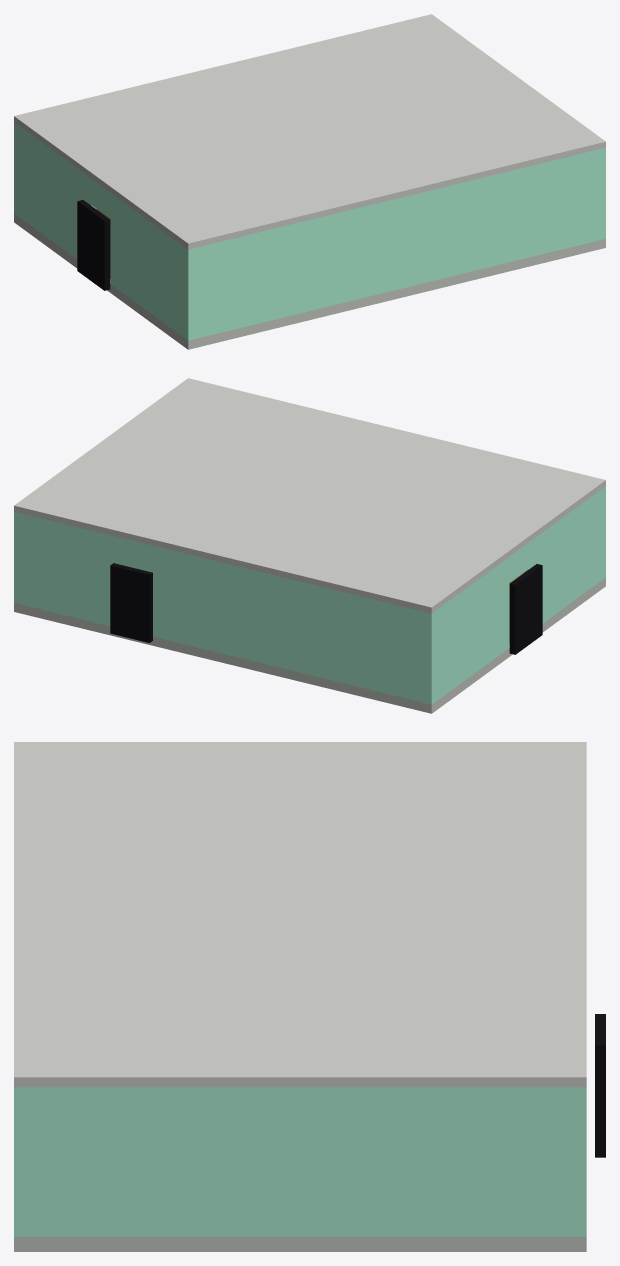
The model's file is rdwe_waiting_room.glb.
The picture shows the model from 3 angles, top to bottom: view 1: azimuth 30°, elevation 25°; view 2: azimuth 150°, elevation 25°; view 3: azimuth 270°, elevation 25°; orthographic projection. The views are drawn at different scales.
Visible parts, largest first — view 1: Room_Ceiling, Room_Wall_S_1, Room_Wall_W_3, Room_Wall_W_1, Room_Floor, Beyond_three, Room_Wall_W_2; view 2: Room_Ceiling, Room_Wall_N_1, Room_Wall_N_3, Room_Wall_W_1, Room_Wall_W_3, Room_Floor, Beyond_number, Beyond_three, Room_Wall_N_2, Room_Wall_W_2; view 3: Room_Ceiling, Room_Wall_E_1, Room_Floor, Room_Wall_N_3, Room_Wall_S_1, Beyond_number.
Part boxes in pixels (x1,y1,x2,y2): Room_Ceiling: (14,14,605,249); Room_Wall_S_1: (185,148,605,340); Room_Wall_W_3: (110,193,184,337); Room_Wall_W_1: (17,125,96,258); Room_Floor: (14,213,605,349); Beyond_three: (77,200,110,290); Room_Wall_W_2: (91,179,110,218); Room_Ceiling: (14,378,605,613); Room_Wall_N_1: (149,544,434,704); Room_Wall_N_3: (14,512,122,625); Room_Wall_W_1: (435,557,509,701); Room_Wall_W_3: (523,489,602,622); Room_Floor: (14,577,605,713); Beyond_number: (110,563,152,642); Beyond_three: (509,564,542,654); Room_Wall_N_2: (122,538,148,571); Room_Wall_W_2: (509,543,528,582); Room_Ceiling: (14,742,586,1087); Room_Wall_E_1: (25,1087,575,1236); Room_Floor: (14,1237,586,1251); Room_Wall_N_3: (575,1087,586,1236); Room_Wall_S_1: (14,1087,24,1236); Beyond_number: (595,1014,605,1157).
Size of the model in its own units: 14.75 by 3.5 by 10.75.
